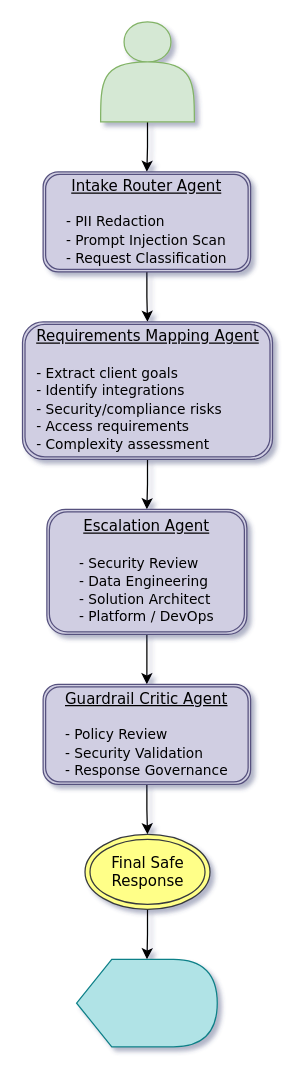
Some shapes in this 301 by 1076 pixel diagram are drawn without their labels. The shapes that lost their labels are listed below. From the top down, each one's centre as x and y in pixels, then its label:
At [146,71]: "Enterprise Client Request".
At [146,1002]: "Streamlit UI / Public Demo".
